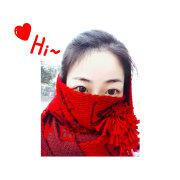OK: (68, 62, 125, 132)
